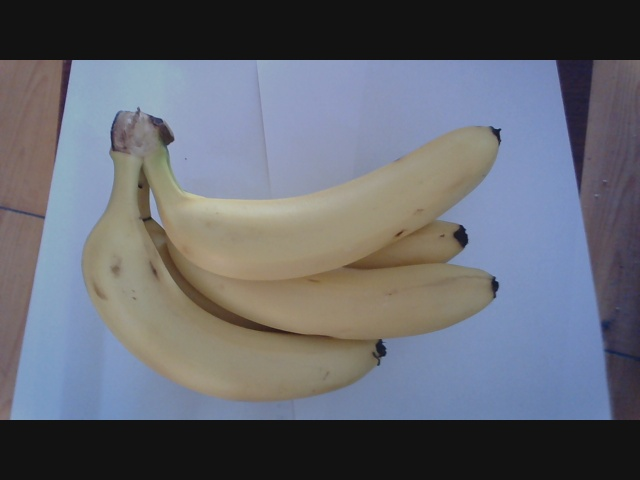banana: (87, 138, 511, 392)
